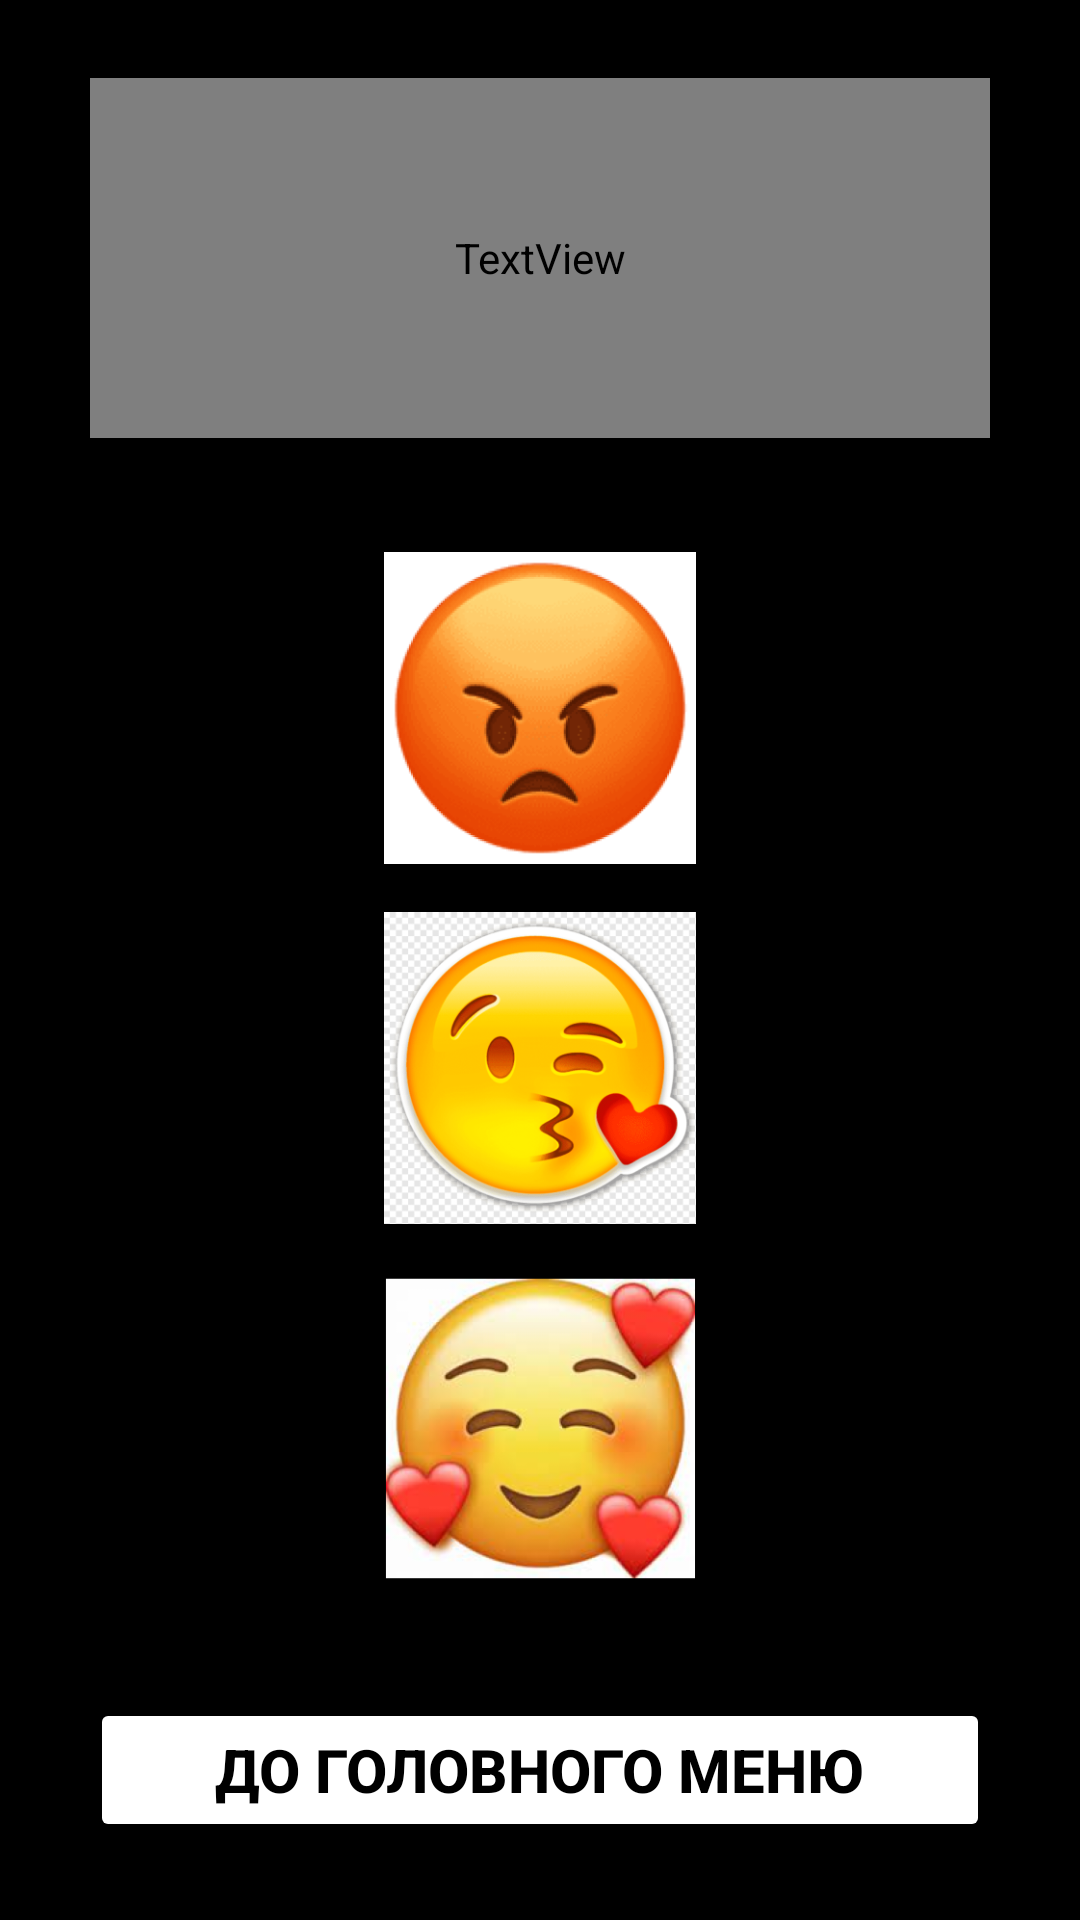

Screen size 1080 x 1920. Icon name, then its center in pixels as (x,y):
emo angry: (540,708)
emo kiss: (540,1068)
emo love: (540,1428)
